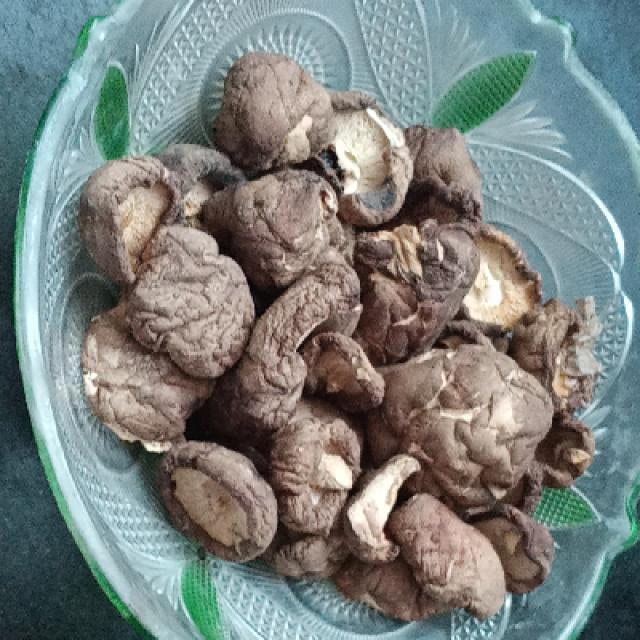Lentinus edodes: (75, 51, 596, 615)
